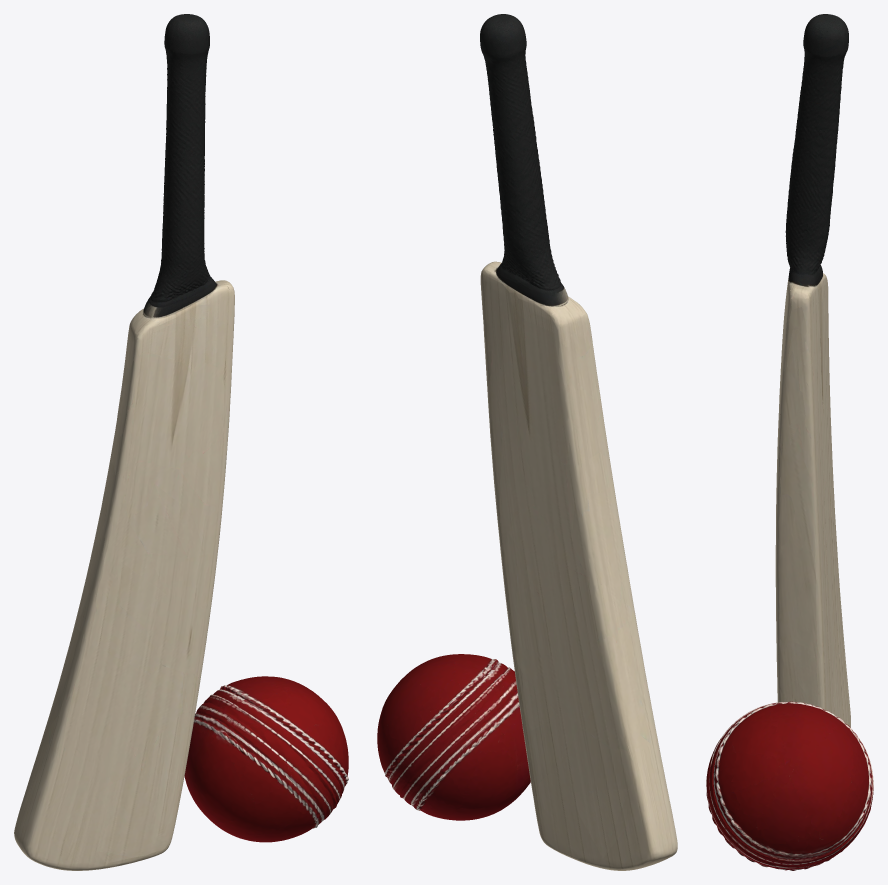
File: cricket.glb
3 views of the same model, side by side, from view 1: azimuth 30°, elevation 25°; view 2: azimuth 150°, elevation 25°; view 3: azimuth 270°, elevation 25° (orthographic).
Parts seen in each view (by area): view 1: Mesh_0; view 2: Mesh_0; view 3: Mesh_0.
Part boxes in pixels (left/top/right/bottom): Mesh_0: left=14, top=14, right=348, bottom=870; Mesh_0: left=377, top=14, right=677, bottom=870; Mesh_0: left=706, top=14, right=873, bottom=870.
Size of the model in its own units: 0.7279 by 1.9 by 0.3542.
Materials: 1 (1 with a texture image).
